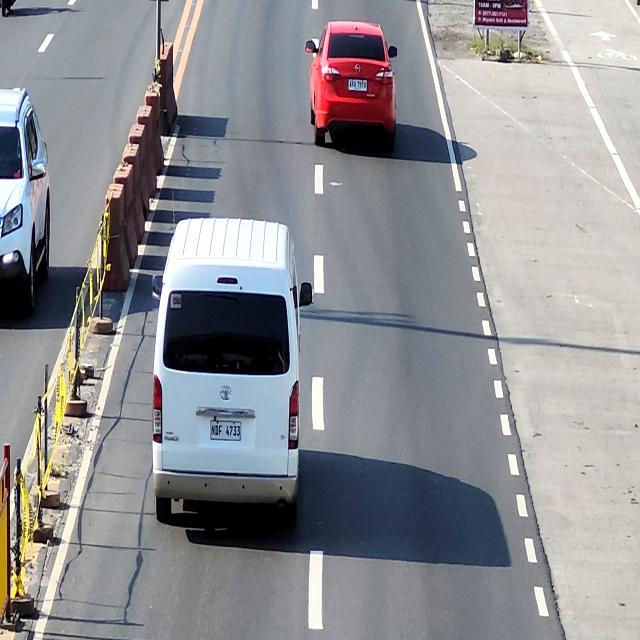Car: (150, 216, 314, 527), (304, 20, 398, 150), (0, 87, 50, 316)
License-Plate: (211, 420, 242, 440), (348, 79, 367, 92)
